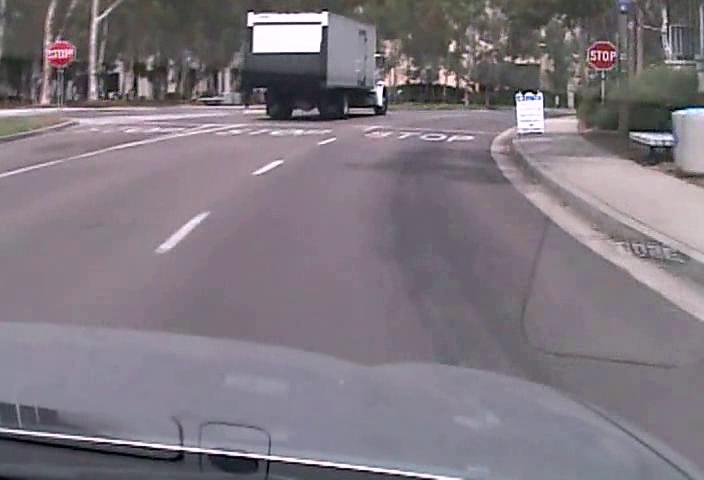stop: (45, 39, 75, 67)
